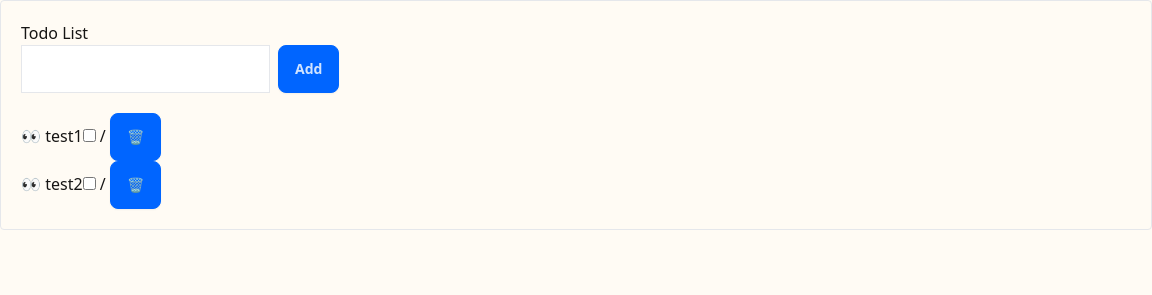
Test: add todo item correctly
Type "testAddTodo" into the field at (146, 69), box [21,45,270,93]
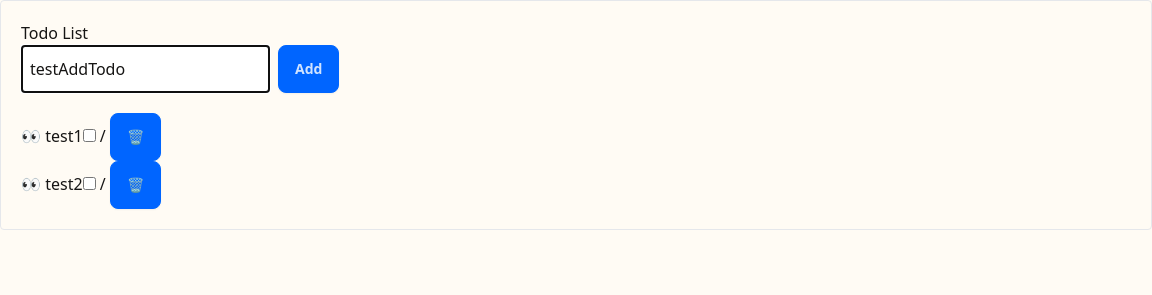
Click the button "Add" at (309, 69), box [278,45,339,93]
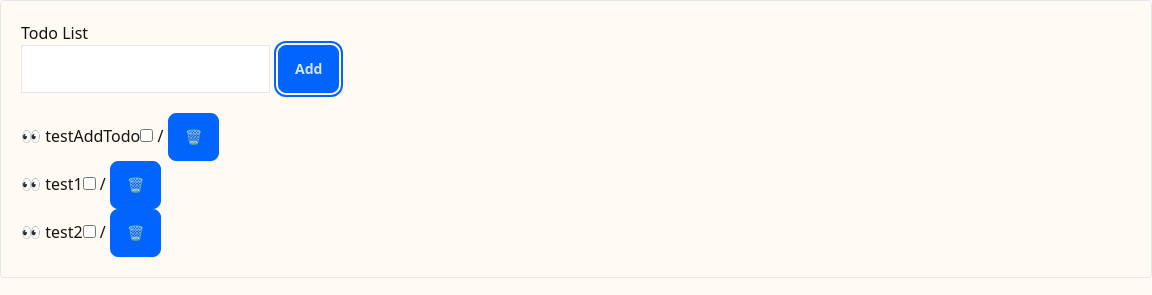
Result: the text "👀 testAddTodo" is shown at [21,125,140,147]
